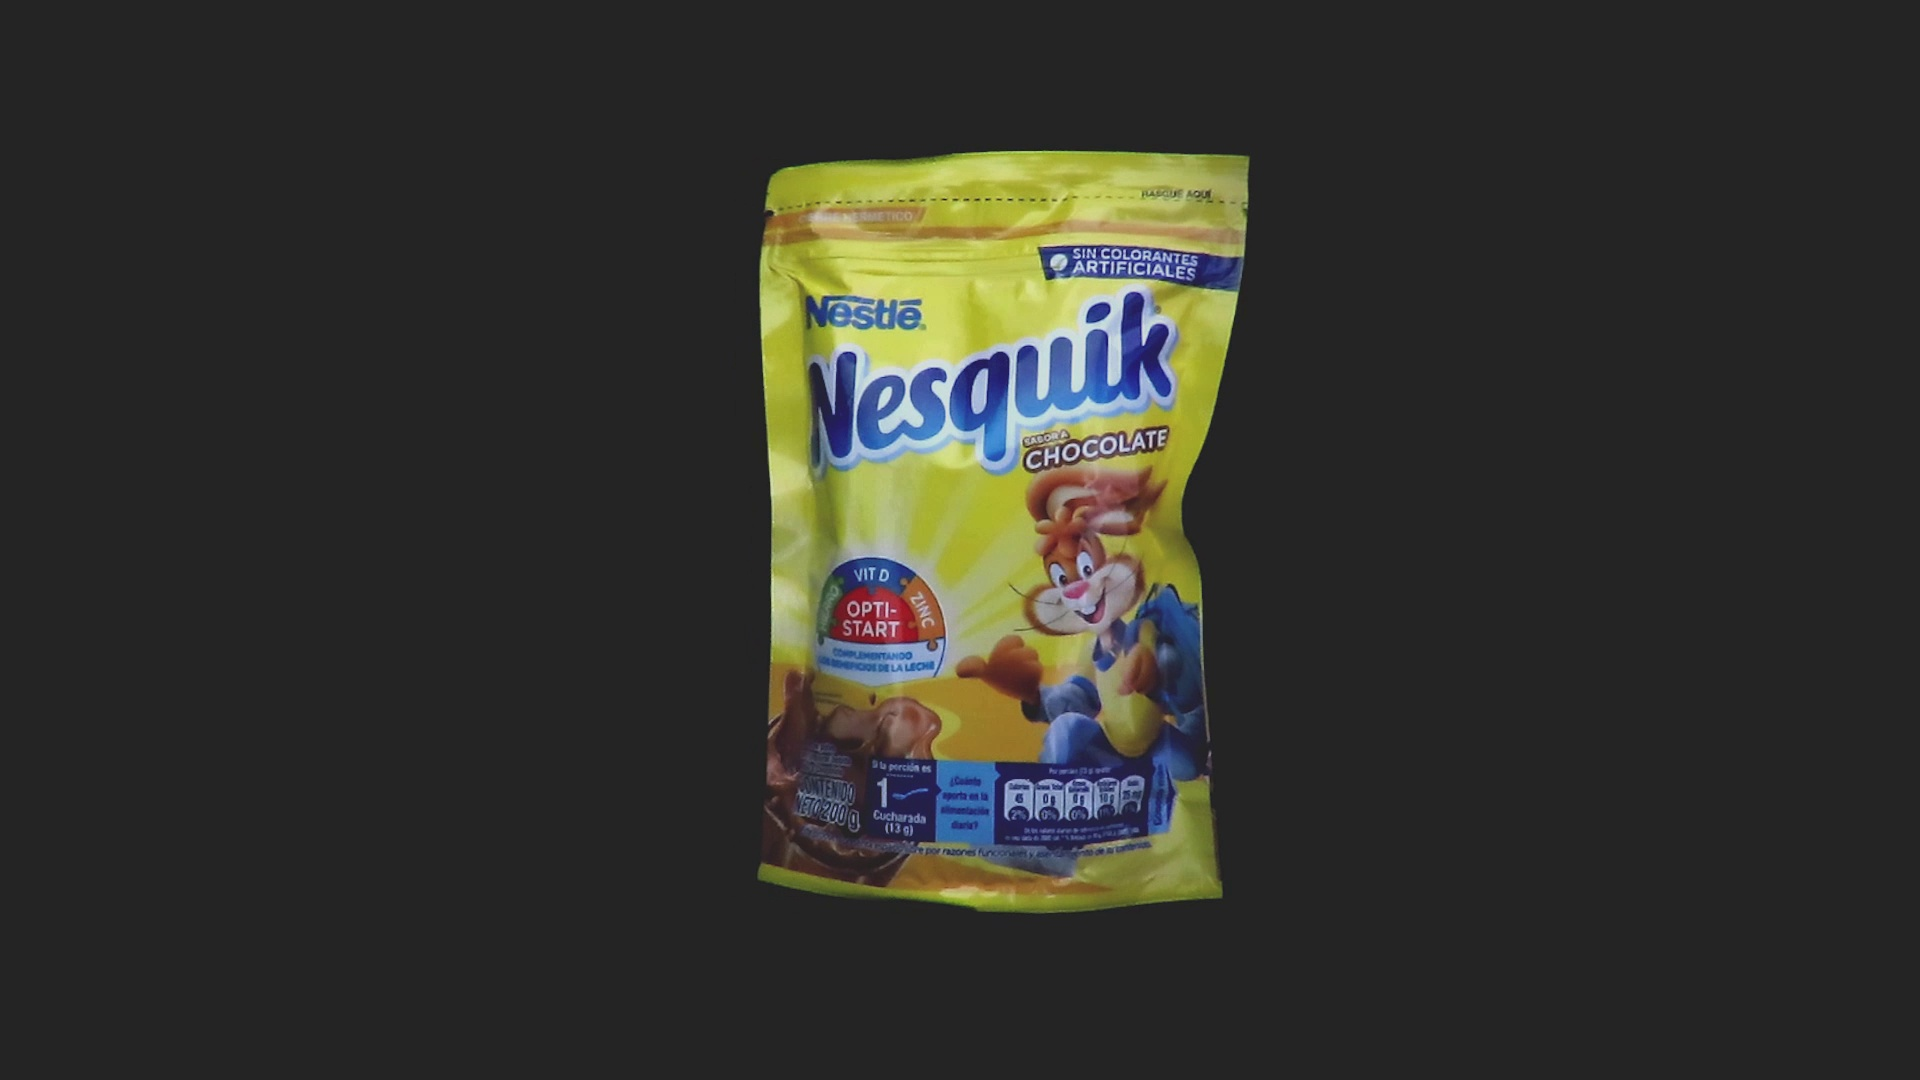COL0170303DYP20000: (752, 145, 1255, 920)
